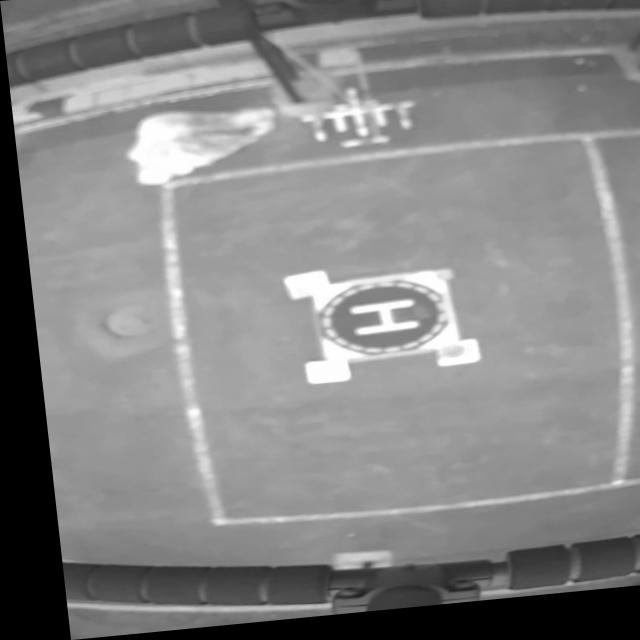Helipad: (340, 305, 414, 341)
